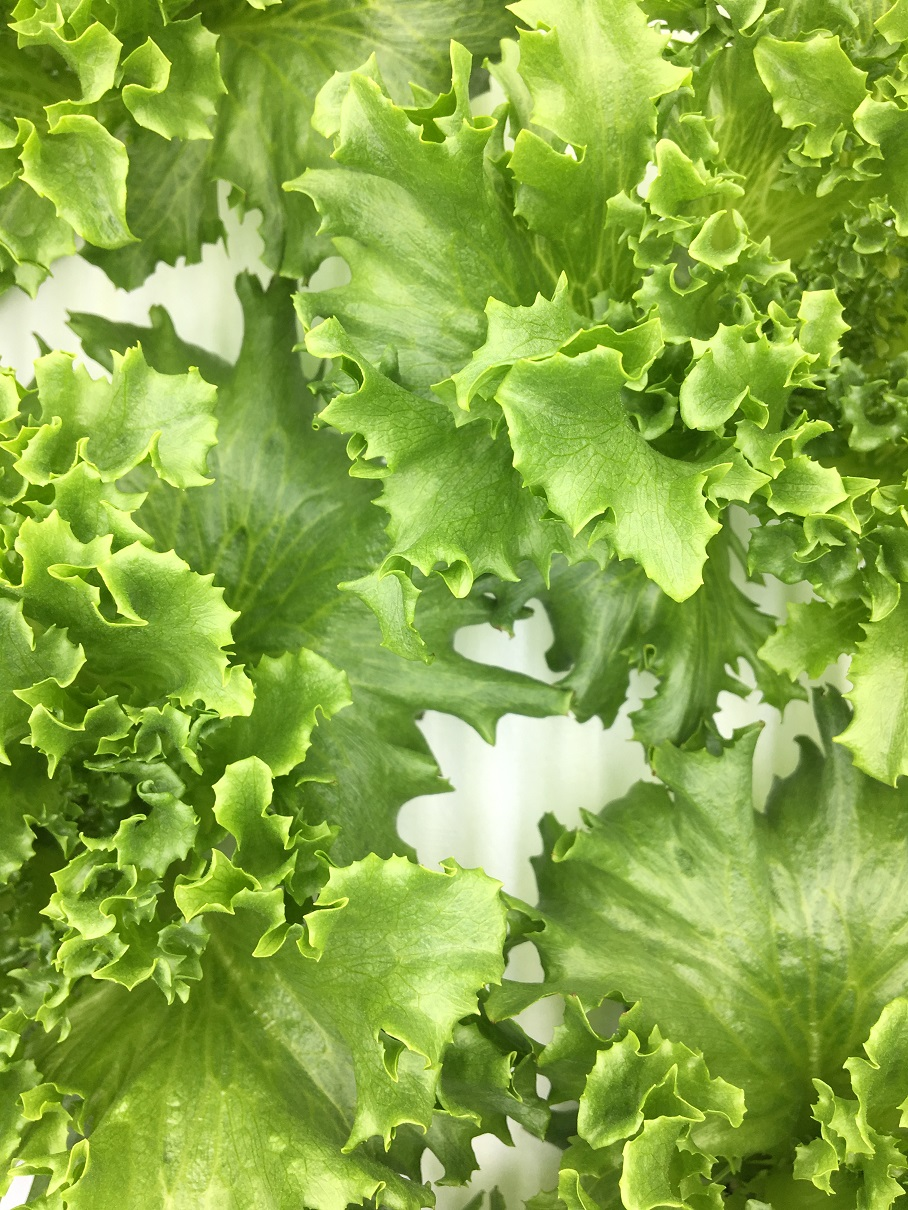tipburn: (743, 704, 779, 739), (635, 755, 672, 789), (486, 614, 520, 648)
